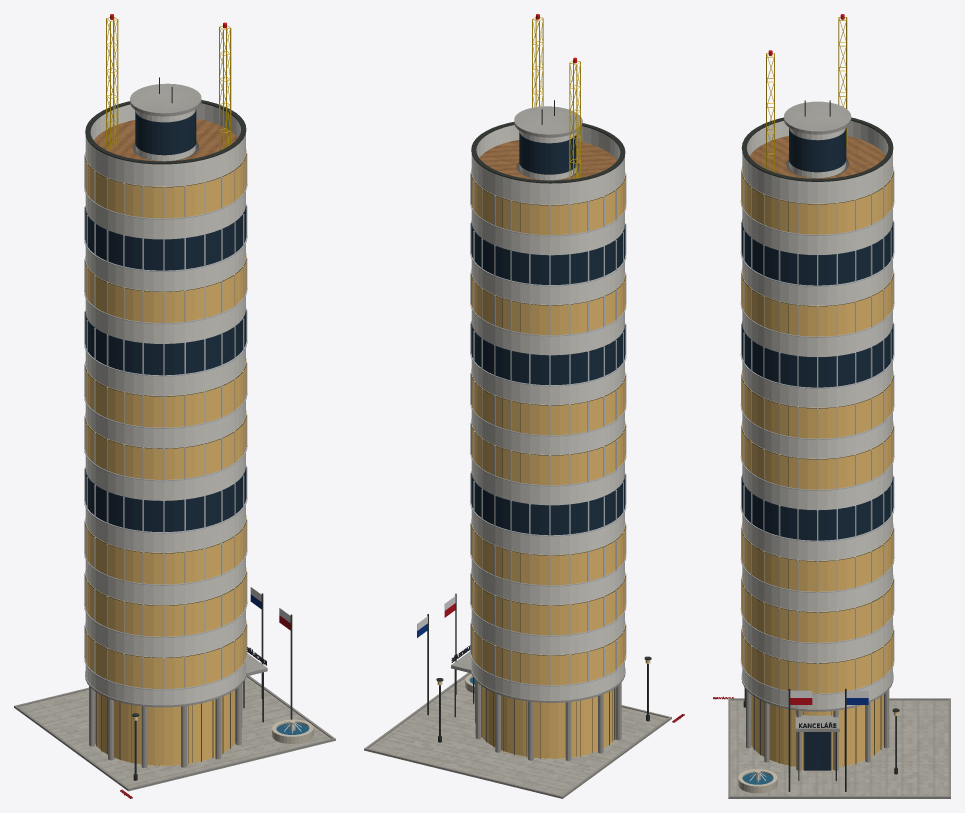
The model's file is dum_24_valec.glb.
3 renders of one model, left to right at view 1: azimuth 30°, elevation 25°; view 2: azimuth 150°, elevation 25°; view 3: azimuth 270°, elevation 25°, orthographic. The views are drawn at different scales.
Parts seen in each view (by area): view 1: dum, noc; view 2: dum, noc; view 3: dum, noc.
Boxes of the visible parts, left/top/right/bottom form: dum: left=14, top=15, right=335, bottom=798; noc: left=85, top=14, right=246, bottom=765; dum: left=364, top=15, right=684, bottom=798; noc: left=437, top=14, right=650, bottom=758; dum: left=713, top=15, right=950, bottom=798; noc: left=741, top=14, right=898, bottom=770.
Size of the model in its own units: 13.67 by 44.18 by 13.5.
Materials: 1 (1 with a texture image).
